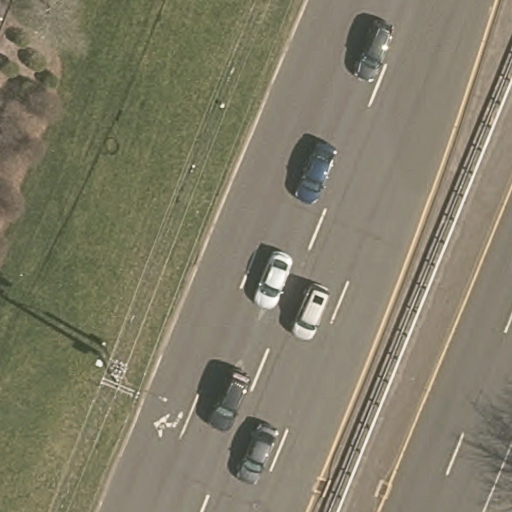DT: (85, 337, 150, 407)
